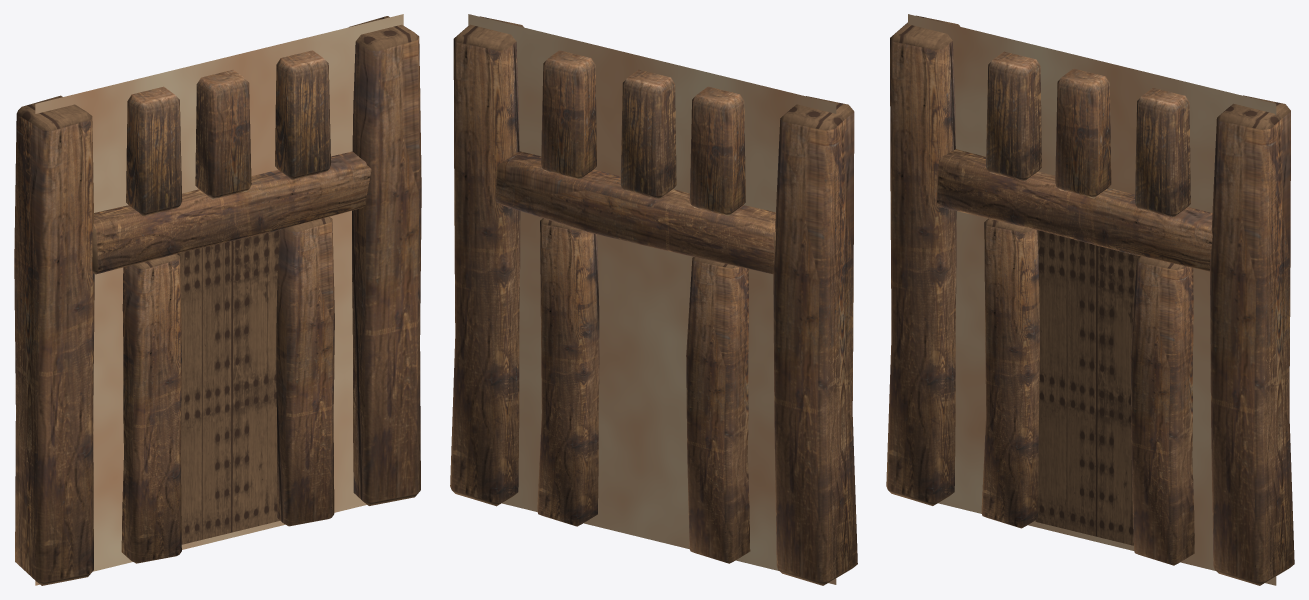
The model's file is 1 Wall wood door.fbx.
3 views of the same model, side by side, from view 1: azimuth 30°, elevation 25°; view 2: azimuth 150°, elevation 25°; view 3: azimuth 330°, elevation 25° (orthographic).
Visible parts, largest first — view 1: 1 Wall wood door; view 2: 1 Wall wood door; view 3: 1 Wall wood door.
Part boxes in pixels (x1,y1,x2,y2): 1 Wall wood door: [14, 14, 421, 585]; 1 Wall wood door: [450, 14, 857, 585]; 1 Wall wood door: [886, 14, 1294, 585].
Size of the model in its own units: 2.1 by 2.5 by 0.336.
